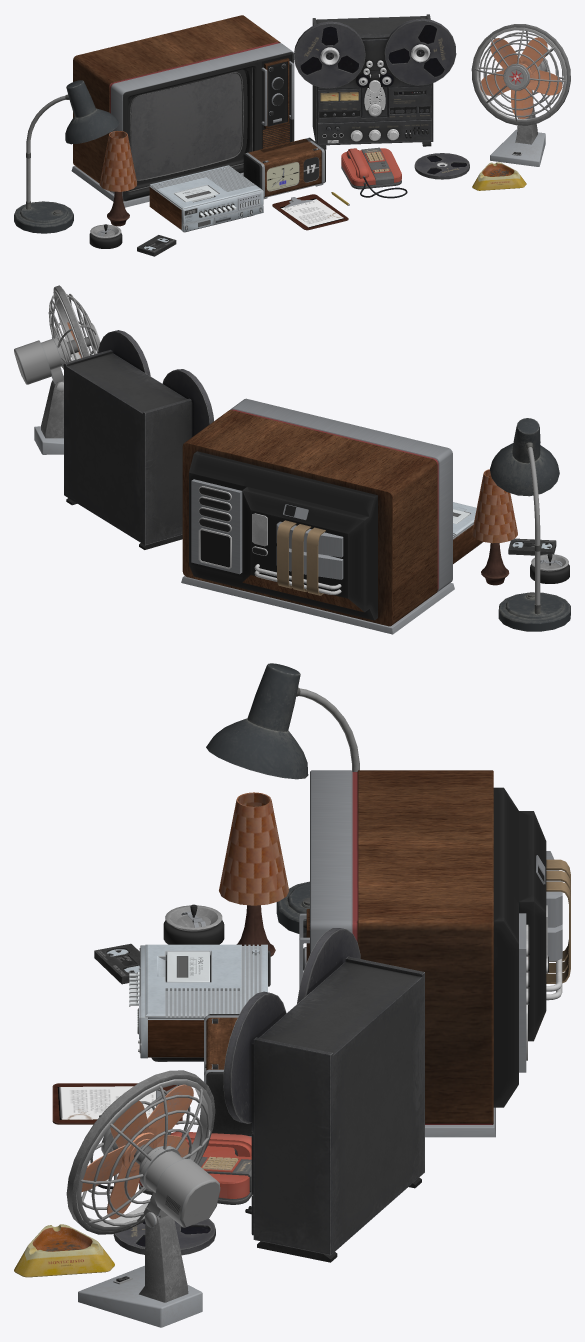
The model's file is vintage_props_70s_assetpack.glb.
The picture shows the model from 3 angles, top to bottom: view 1: azimuth 30°, elevation 25°; view 2: azimuth 150°, elevation 25°; view 3: azimuth 270°, elevation 25°; orthographic projection. The views are drawn at different scales.
Visible parts, largest first — view 1: Television_2, Didctaphone_11, Fan_13, VHS_Player_0, Lamp_02_9, Clock_5, Phone_10, Lamp_01_8, Note_6, Audio_Tape_12, Ashtray_02_3, Ashtray_01_4 (+1 smaller); view 2: Television_2, Didctaphone_11, Lamp_02_9, Fan_13, Lamp_01_8, VHS_Player_0, Ashtray_01_4, VHS_Tape_1; view 3: Television_2, Didctaphone_11, Fan_13, VHS_Player_0, Lamp_02_9, Lamp_01_8, Ashtray_02_3, Phone_10, Note_6, Clock_5, Ashtray_01_4, Audio_Tape_12 (+1 smaller).
Boxes of the visible parts, box(x1,y1,x2,y2) form: Television_2: box(71, 15, 294, 207); Didctaphone_11: box(294, 14, 456, 149); Fan_13: box(471, 24, 570, 166); VHS_Player_0: box(149, 165, 263, 232); Lamp_02_9: box(14, 80, 119, 233); Clock_5: box(243, 137, 325, 199); Phone_10: box(341, 147, 407, 198); Lamp_01_8: box(99, 131, 137, 226); Note_6: box(272, 194, 348, 230); Audio_Tape_12: box(414, 153, 469, 179); Ashtray_02_3: box(472, 162, 526, 190); Ashtray_01_4: box(89, 224, 122, 248); Television_2: box(181, 398, 454, 634); Didctaphone_11: box(64, 330, 213, 549); Lamp_02_9: box(490, 418, 570, 631); Fan_13: box(14, 285, 100, 454); Lamp_01_8: box(472, 469, 517, 585); VHS_Player_0: box(453, 502, 482, 563); Ashtray_01_4: box(530, 553, 569, 583); VHS_Tape_1: box(508, 538, 556, 555); Television_2: box(299, 770, 570, 1137); Didctaphone_11: box(223, 928, 424, 1262); Fan_13: box(66, 1070, 220, 1327); VHS_Player_0: box(129, 944, 270, 1061); Lamp_02_9: box(206, 663, 359, 933); Lamp_01_8: box(219, 792, 289, 956); Ashtray_02_3: box(14, 1224, 114, 1277); Phone_10: box(97, 1131, 252, 1204); Note_6: box(52, 1083, 182, 1124); Clock_5: box(204, 1014, 252, 1136); Ashtray_01_4: box(163, 904, 224, 944); Audio_Tape_12: box(113, 1218, 215, 1255).
Bounding box in the file's own units: 2.72 × 0.7726 × 1.44.
5 materials, 5 textured.
